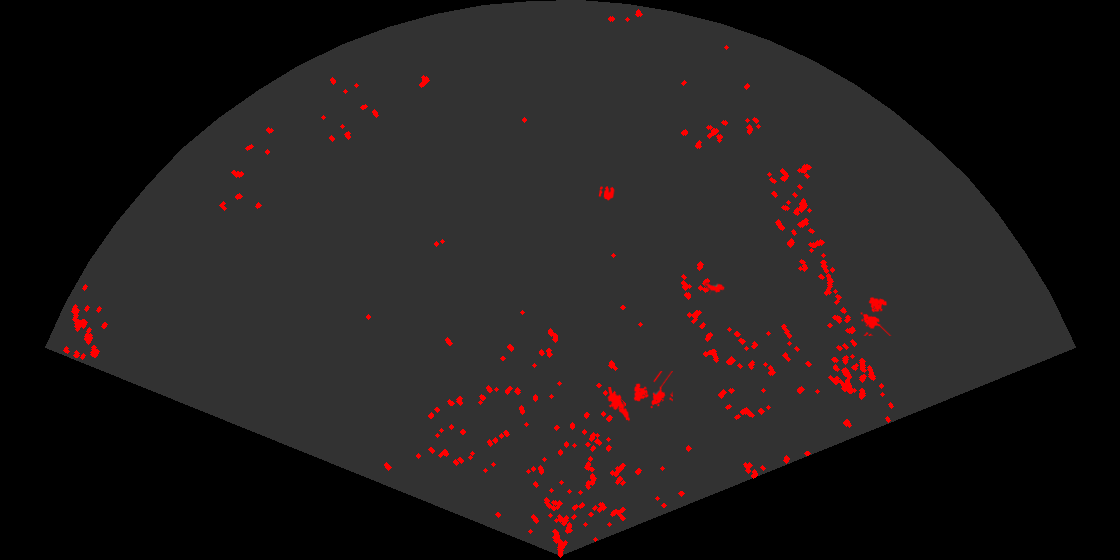AUV: (704, 282, 726, 295)
ball: (597, 185, 616, 202)
cage: (632, 371, 673, 410), (859, 295, 893, 336)
frogman: (606, 387, 632, 424)
